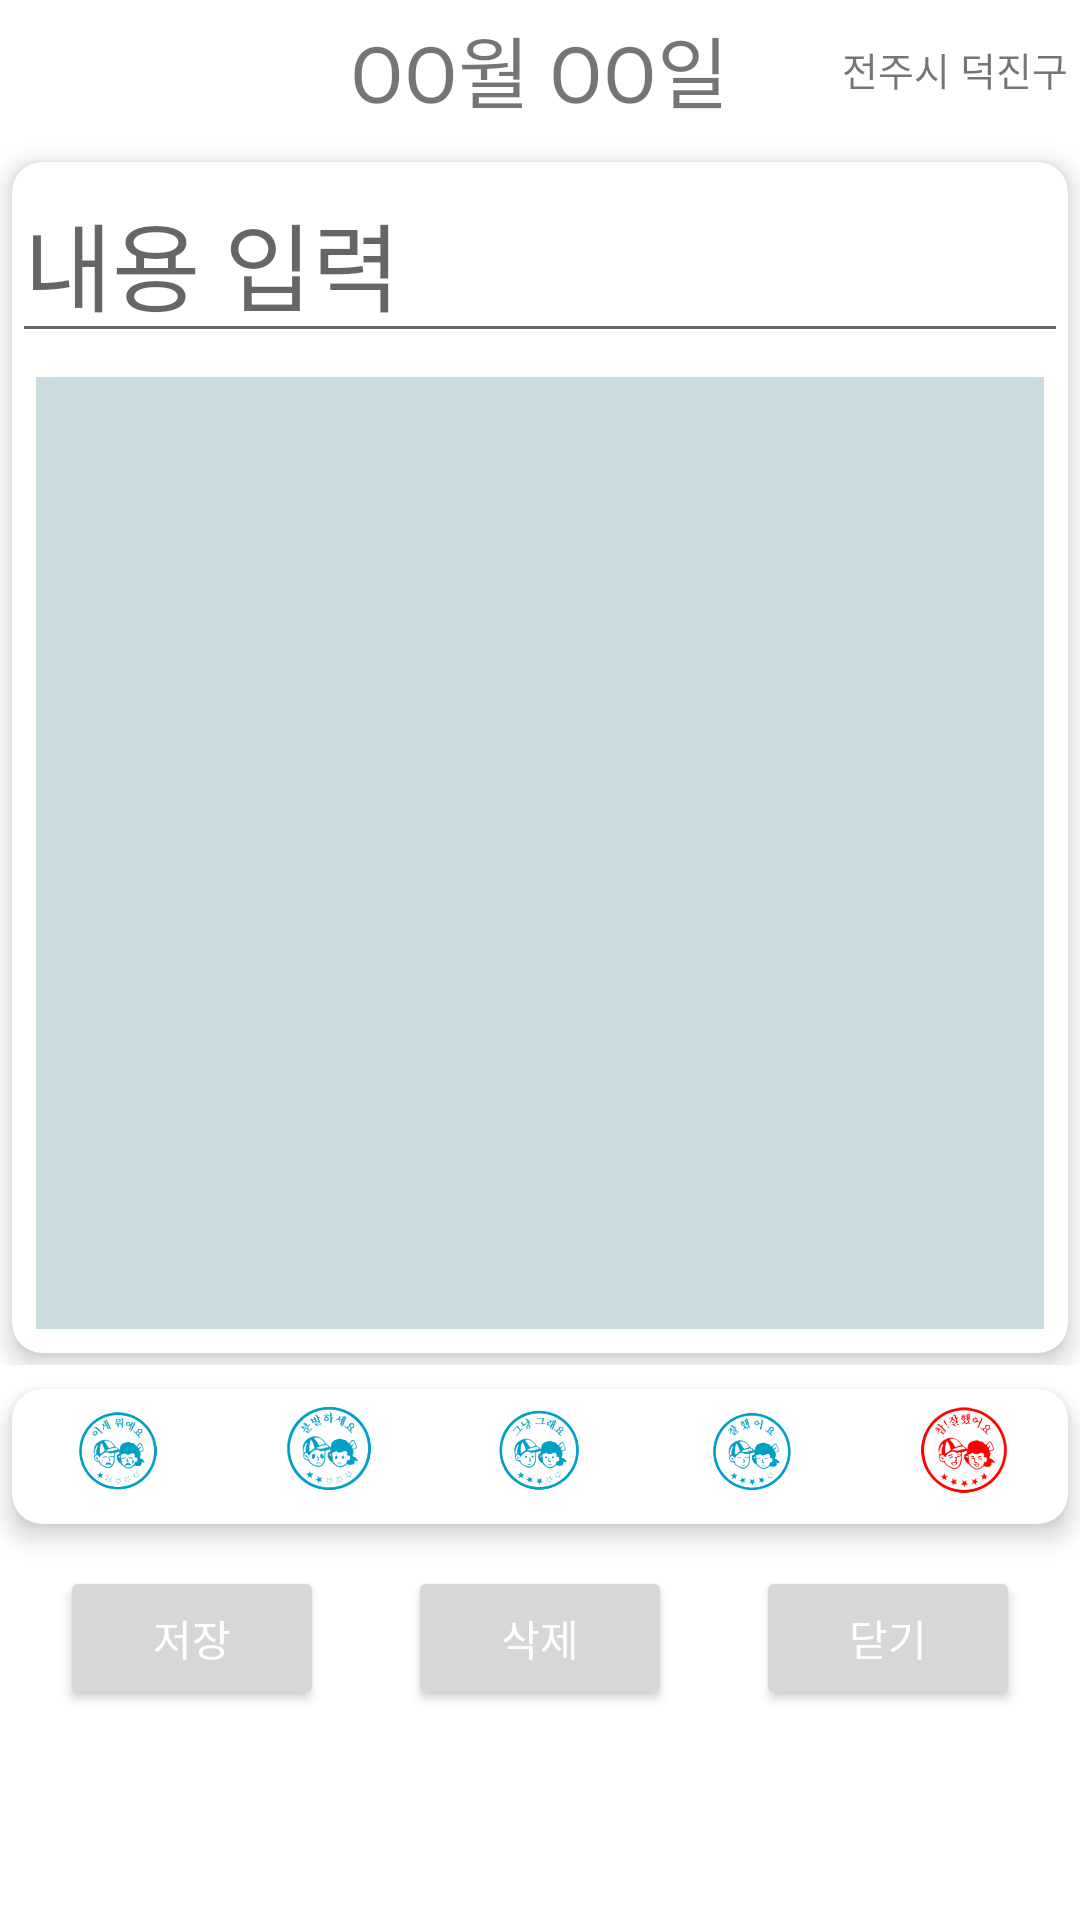

Screen size 1080 × 1920. Icon name, then its center in pixels as [x,y]:
stamp: [329,1448], [964,1450], [539,1450], [118,1451], [752,1451]
